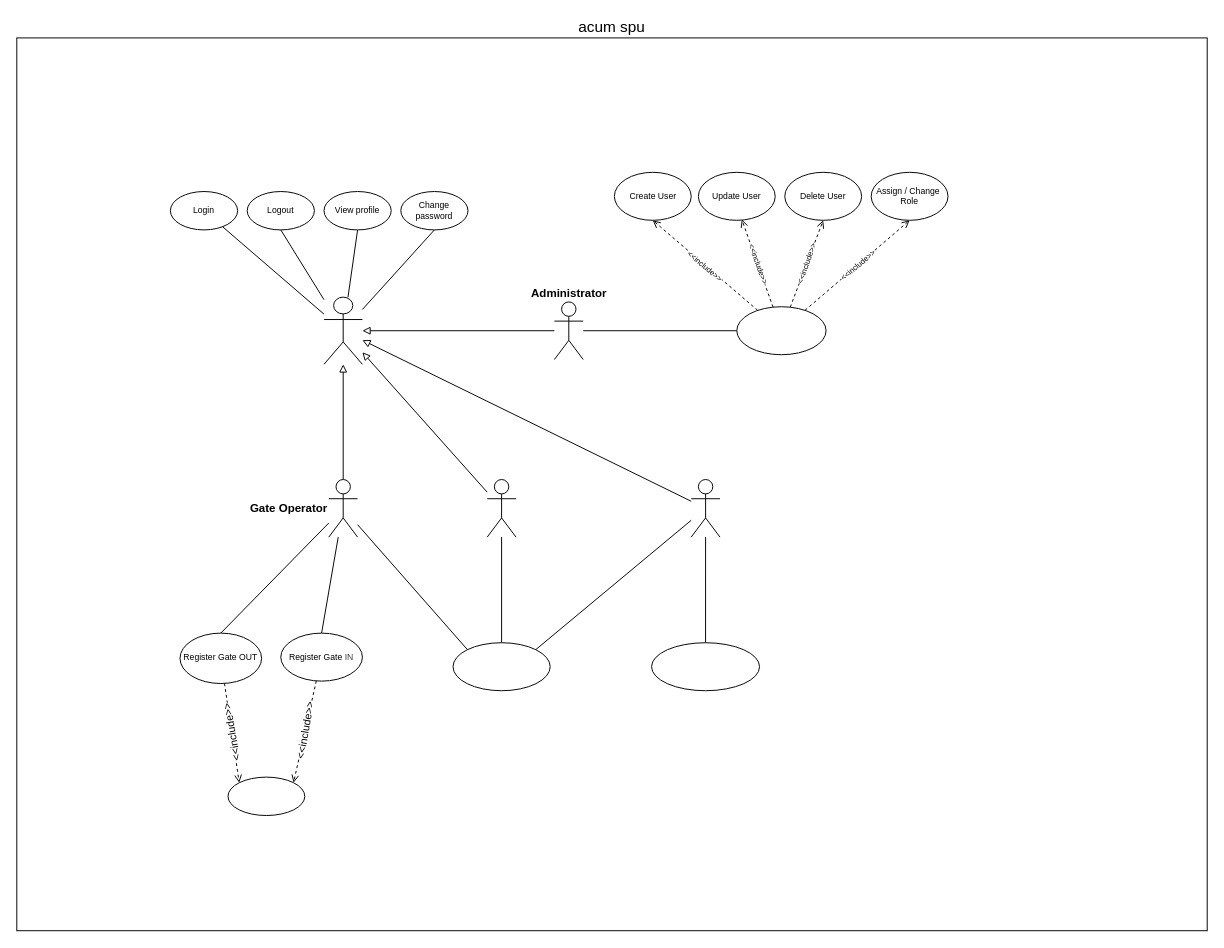
Some shapes in this 1224 by 948 pixel diagram are drawn without their labels. The shapes that lost their labels are listed below. From the top down, each one's box as (x1, y1, x2, y2) in pixels, then its label:
(323, 296, 362, 364): User
(736, 306, 826, 355): Manage Users
(486, 479, 516, 537): Customer / Line Agent
(690, 479, 720, 537): Terminal Operator
(452, 642, 550, 691): View Containers
(651, 642, 760, 691): Manage Vessel Visits
(227, 776, 305, 816): Validate Container
